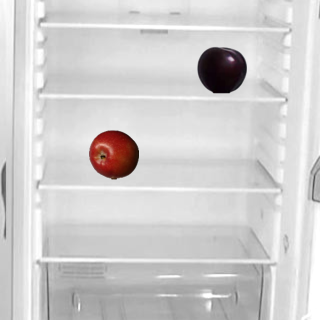Apple Braeburn: (88, 129, 138, 179)
Cherry Wax Black: (196, 44, 246, 94)
